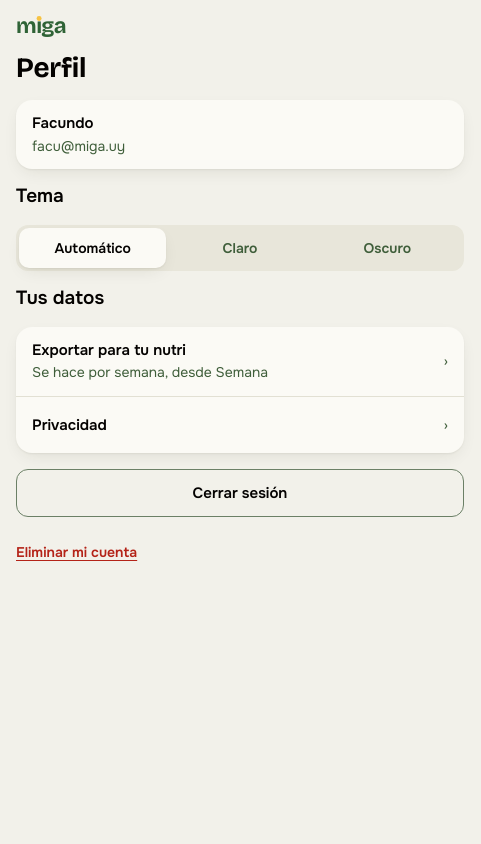
Test: la eliminación está plegada y después de cerrar sesión
Expected: the field labelled "Contraseña actual" is not shown
Click the button "Eliminar mi cuenta" at coordinates (77, 553), box [16, 533, 137, 573]
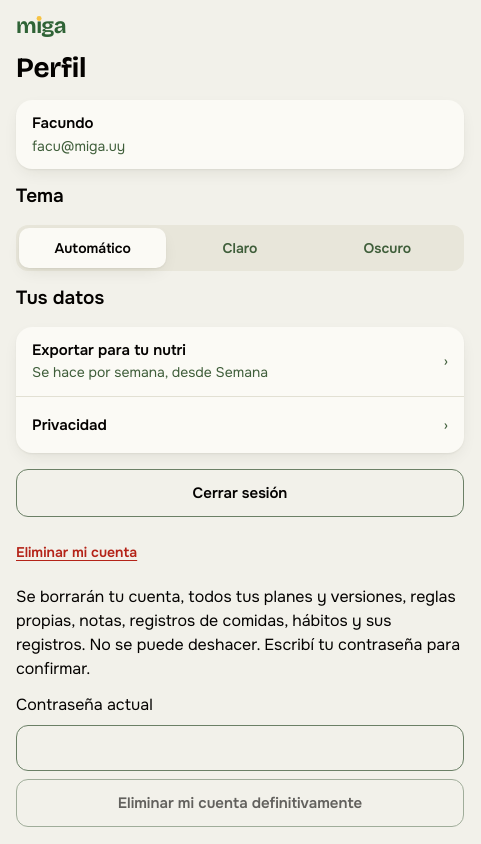
Now the password field labelled "Contraseña actual" is shown, box [16, 725, 464, 771]
Click the button "Eliminar mi cuenta" at coordinates (77, 553), box [16, 533, 137, 573]
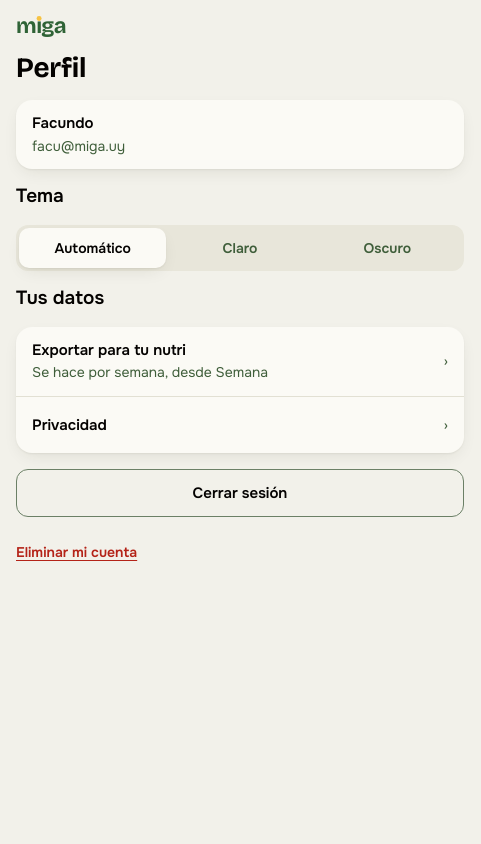
Now the label labelled "Contraseña actual" is gone
